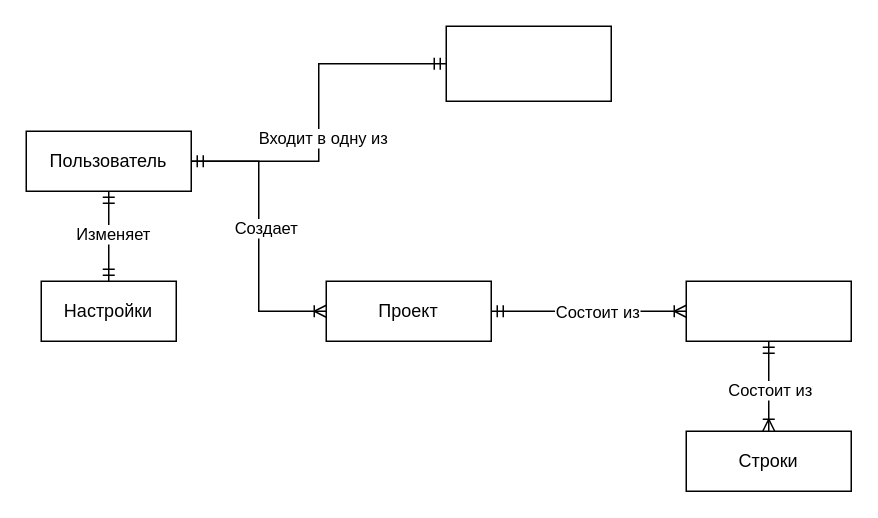
The diagram is 878 pixels wide and 518 high, and some of its shapes have lost their labels. The shapes that lost their labels are listed below. From the top down, each one's centre as x and y in pixels, then its label:
the point at 528,63: Роли
the point at 768,310: Файлы
